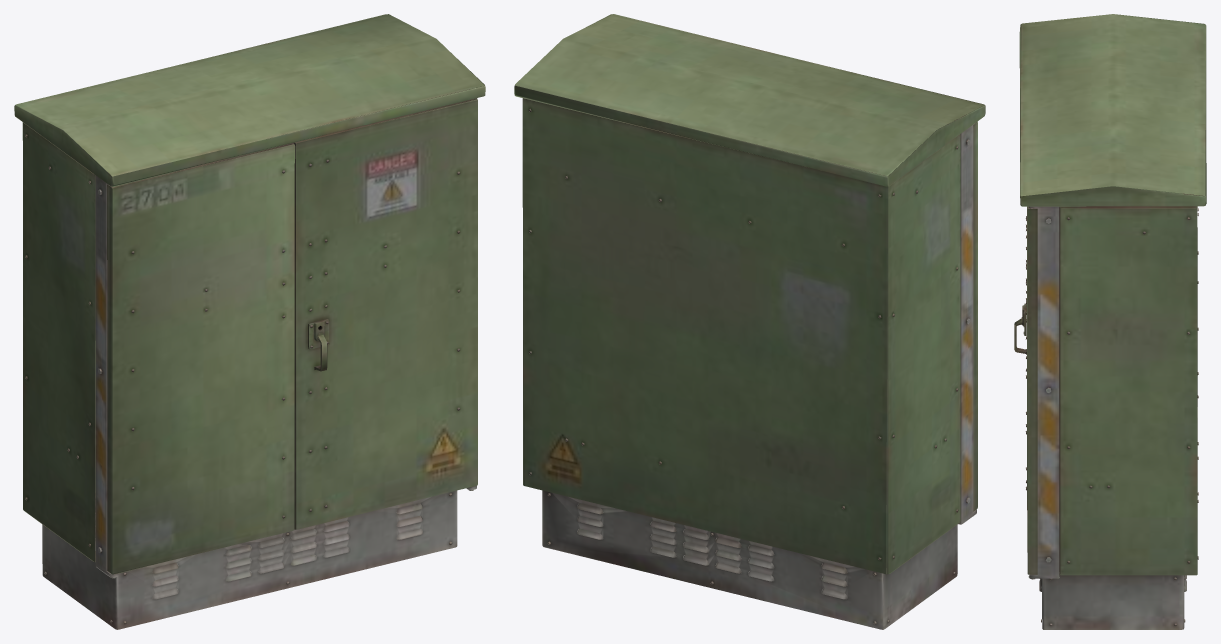
File: utility_box_02.glb
3 views of the same model, side by side, from view 1: azimuth 30°, elevation 25°; view 2: azimuth 150°, elevation 25°; view 3: azimuth 270°, elevation 25° (orthographic). The views are drawn at different scales.
Visible parts, largest first — view 1: utility_box_02; view 2: utility_box_02; view 3: utility_box_02.
Part boxes in pixels (box(x1,y1,x2,y2)): utility_box_02: box(14, 14, 485, 629); utility_box_02: box(514, 14, 985, 629); utility_box_02: box(1014, 14, 1206, 629).
Size of the model in its own units: 0.9185 by 1.12 by 0.432.
Materials: 1 (1 with a texture image).
